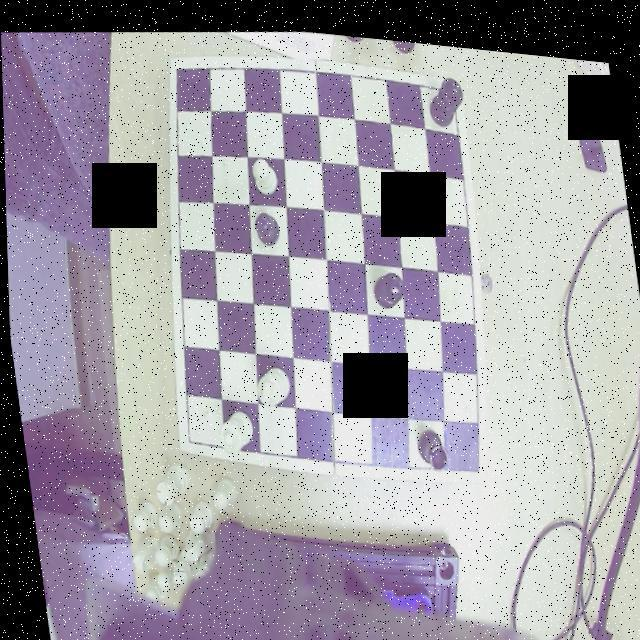chess-table-corners: (458, 442, 484, 472), (176, 424, 202, 452), (166, 52, 188, 84), (436, 68, 459, 94)
